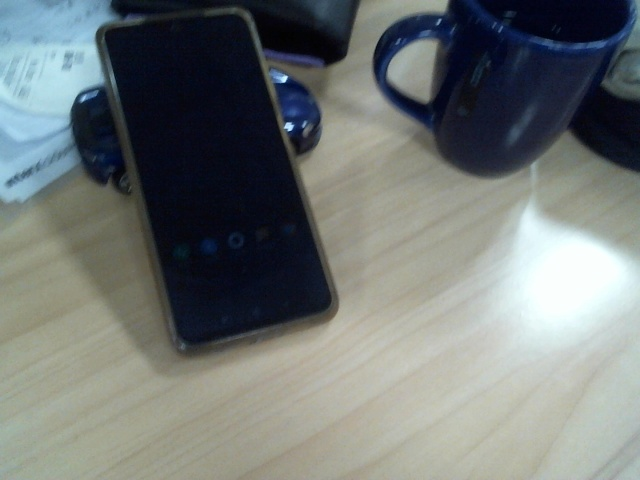handphone: (94, 5, 340, 357)
